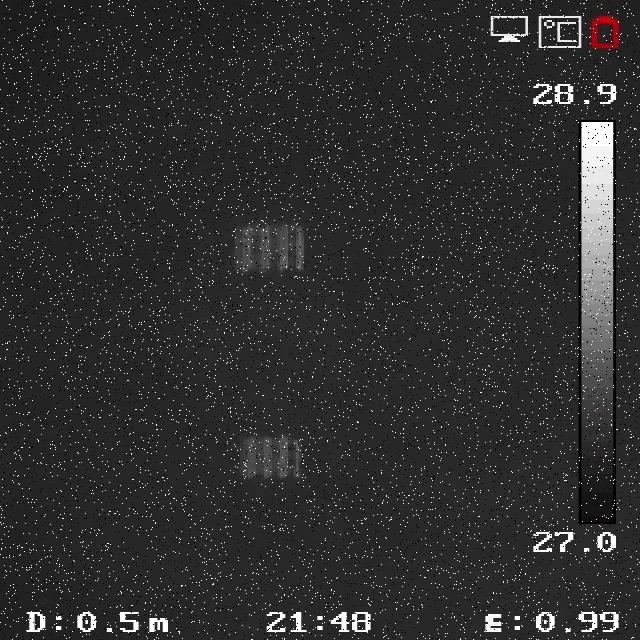threshold 4-bar target: (235, 223, 305, 270), (238, 437, 302, 478)
